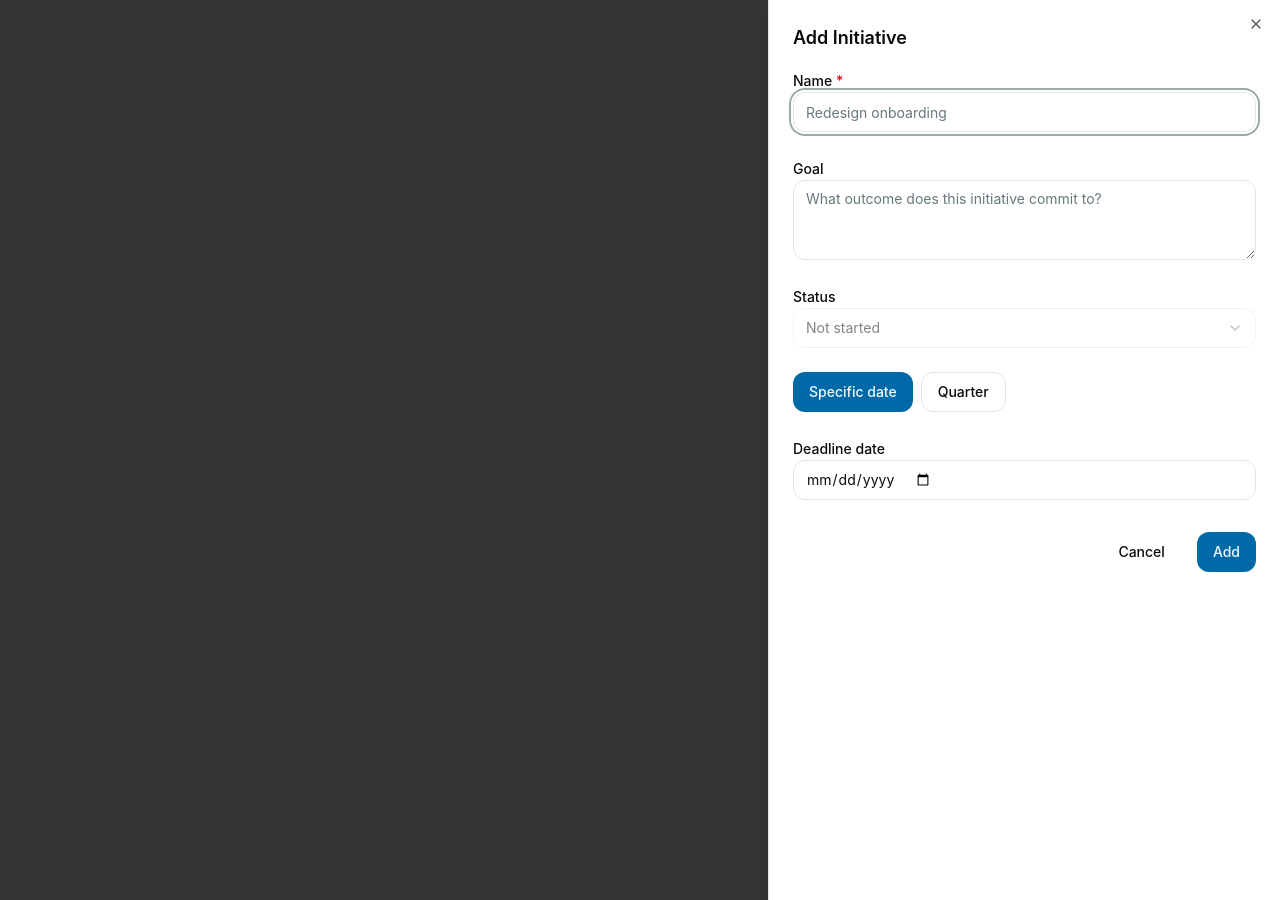
Test case: InitiativeSheet › rejects a date deadline before today when adding
Type "Backdated" into the field labelled "Name *" at [1024, 112], box [793,92,1256,132]
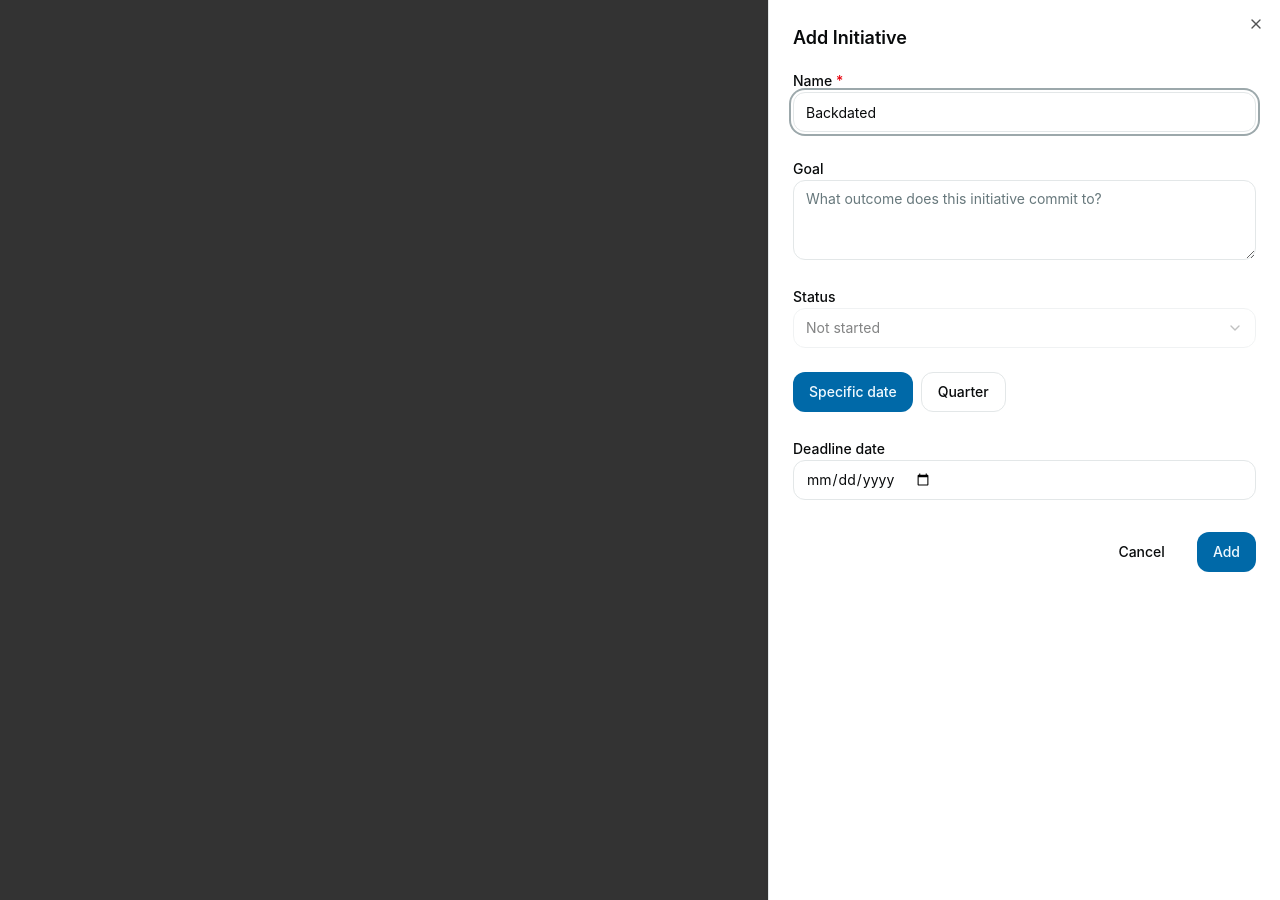
Type "2000-01-01" into the date field labelled "Deadline date" at [1024, 480], box [793,460,1256,500]
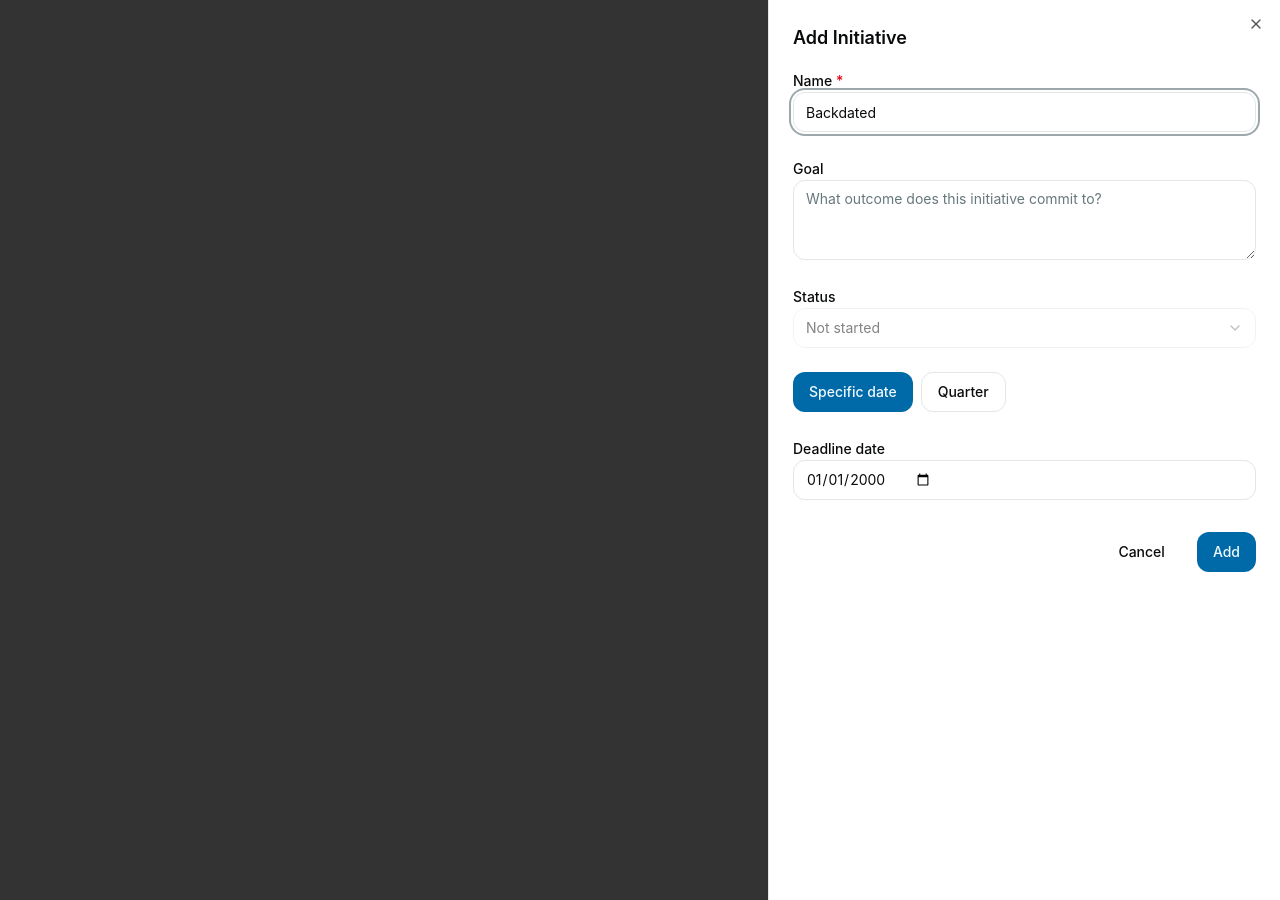
Click the button "Add" at [1226, 552], box [1197,532,1256,572]
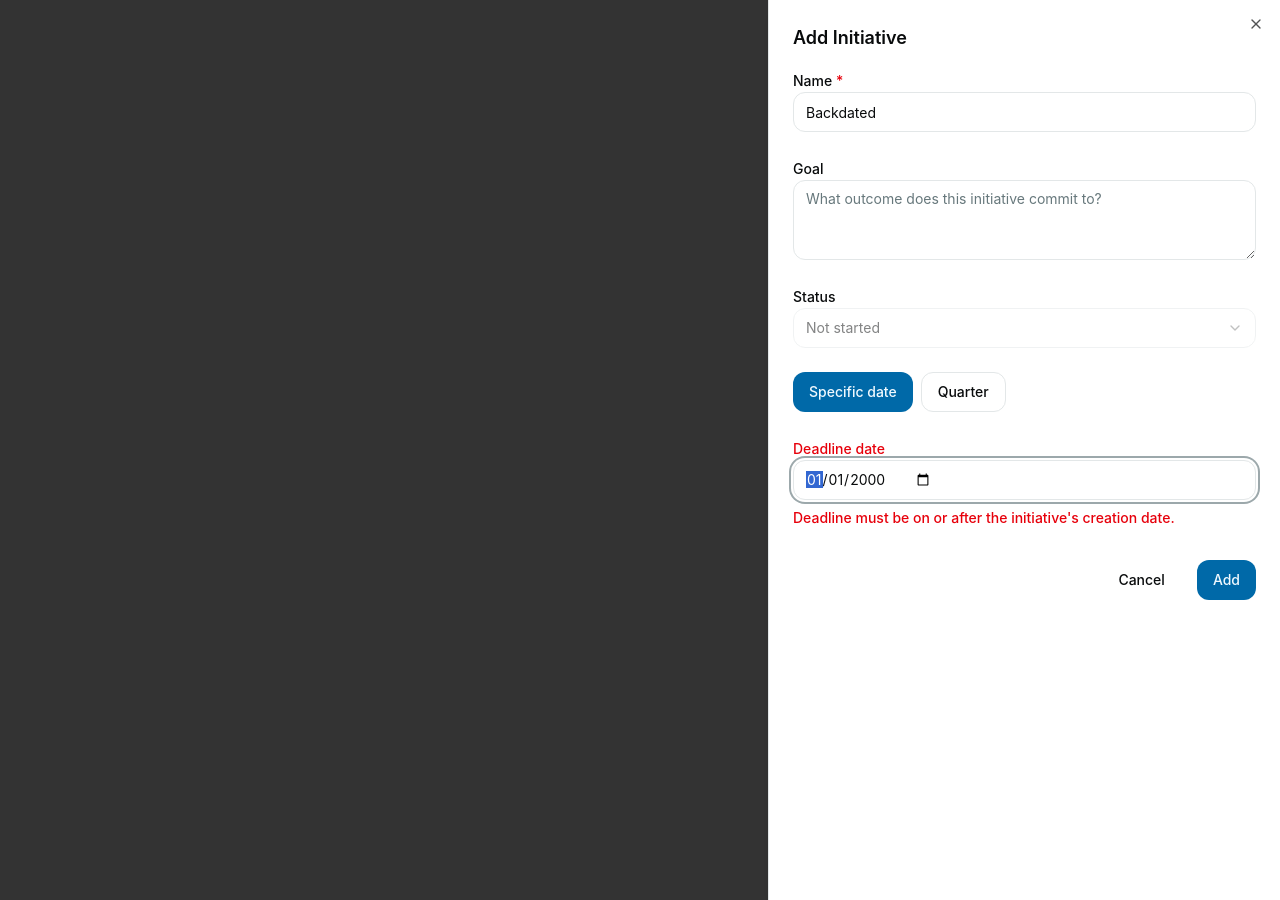
Expected: the text "Deadline must be on or after the initiative's creation date." is shown, [793,509,1175,526]
